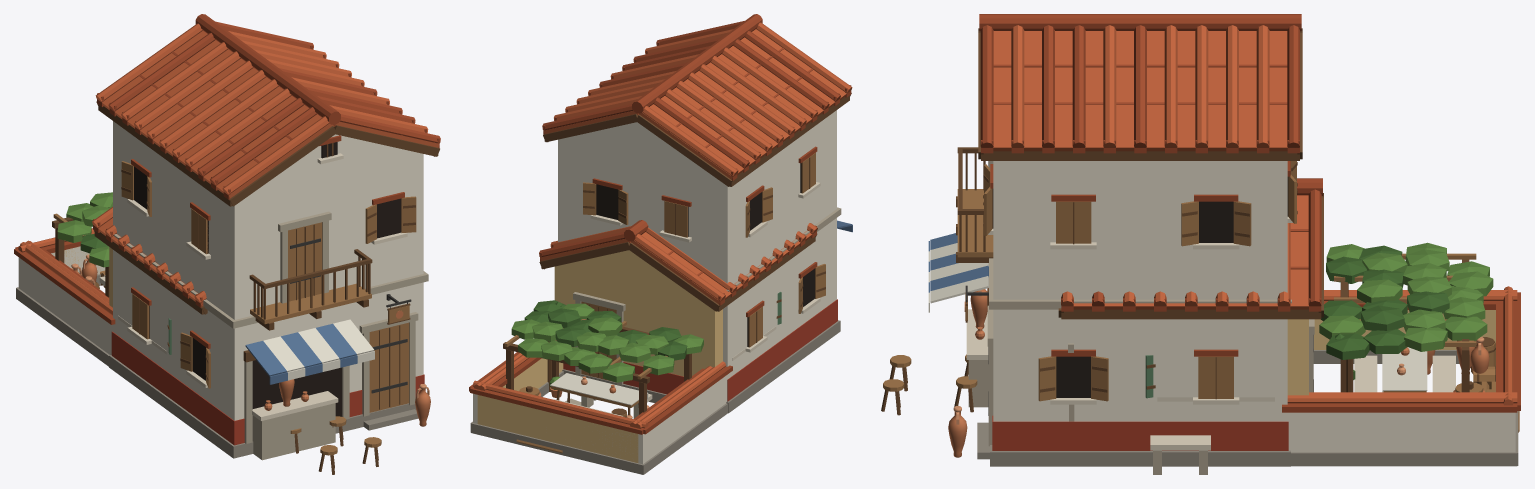
Rendered from Taberna.fbx.
The picture shows the model from 3 angles, left to right: view 1: azimuth 30°, elevation 25°; view 2: azimuth 150°, elevation 25°; view 3: azimuth 270°, elevation 25°; orthographic projection. The views are drawn at different scales.
Visible parts, largest first — view 1: Taberna_1, Taberna_0; view 2: Taberna_1, Taberna_0; view 3: Taberna_1, Taberna_0.
Boxes of the visible parts, x1,y1,x2,y2 form: Taberna_1: (14,14,440,474); Taberna_0: (25,207,346,453); Taberna_1: (469,14,852,474); Taberna_0: (474,220,817,473); Taberna_1: (881,14,1520,466); Taberna_0: (954,178,1520,474).
Bounding box in the file's own units: 1.73 × 2.45 × 3.59.
